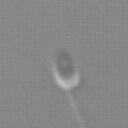normal: (60, 90, 94, 128)
